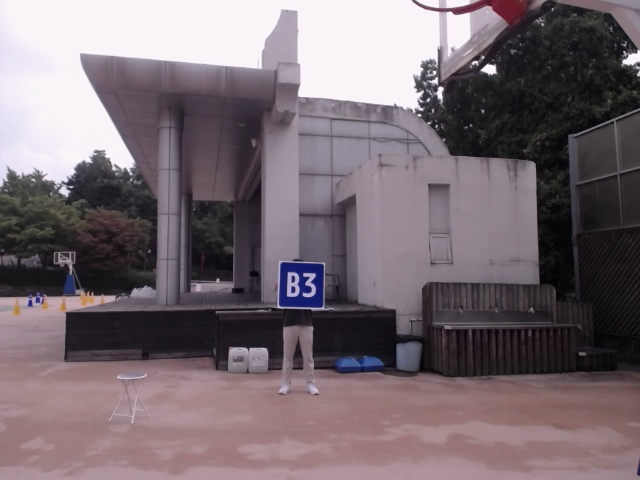delivery_b3: (279, 261, 326, 308)
